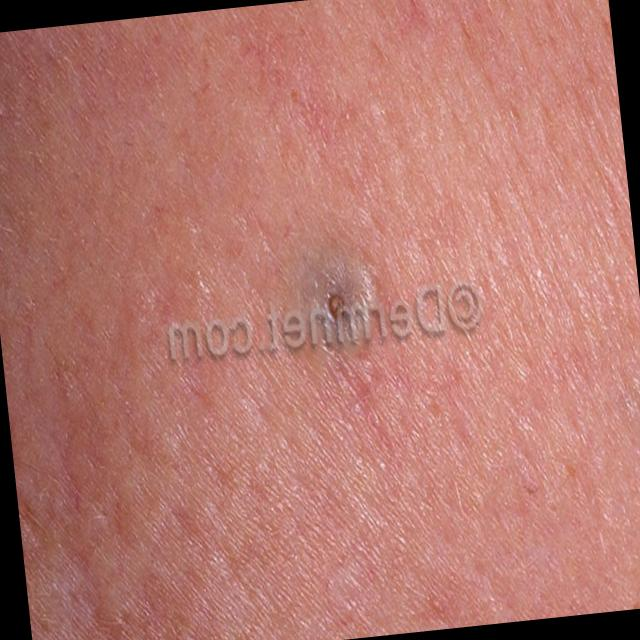blackhead: (328, 294, 346, 317)
